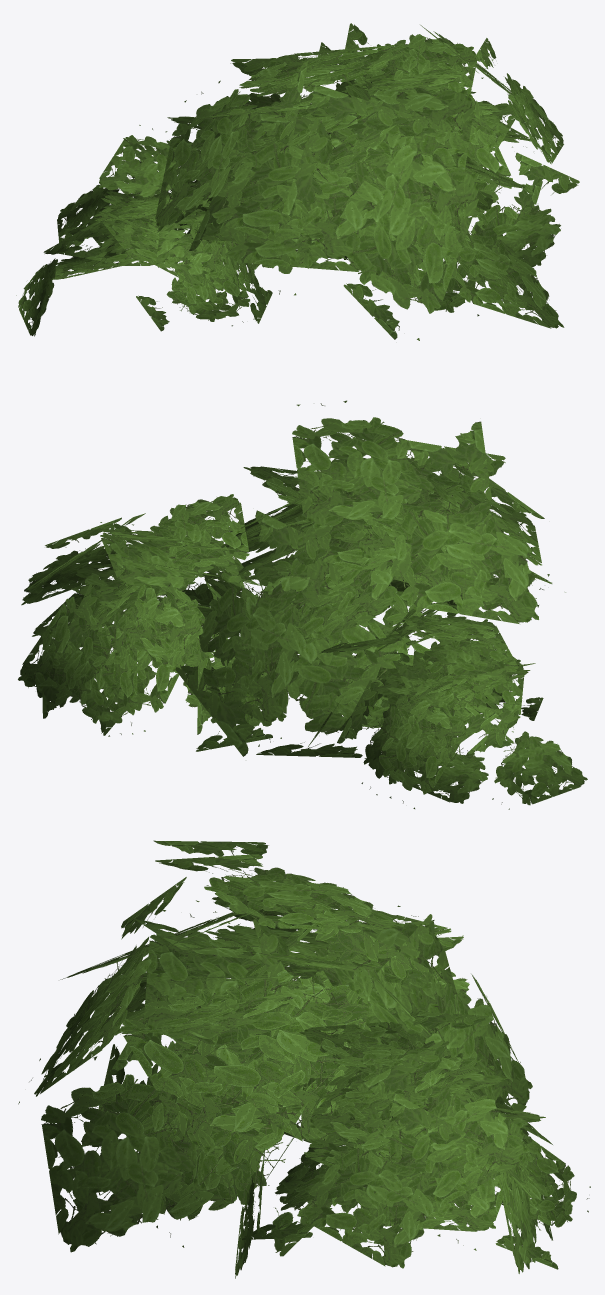
The model's file is tree_bush.glb.
The picture shows the model from 3 angles, top to bottom: view 1: azimuth 30°, elevation 25°; view 2: azimuth 150°, elevation 25°; view 3: azimuth 270°, elevation 25°; orthographic projection. The views are drawn at different scales.
Parts seen in each view (by area): view 1: tree_bush_foliage; view 2: tree_bush_foliage; view 3: tree_bush_foliage.
Part boxes in pixels (left/top/right/bottom): tree_bush_foliage: left=16, top=23, right=579, bottom=340; tree_bush_foliage: left=18, top=400, right=587, bottom=809; tree_bush_foliage: left=18, top=840, right=590, bottom=1278.
Bounding box in the file's own units: 0.1135 × 0.0531 × 0.0874.
1 material, 1 textured.
